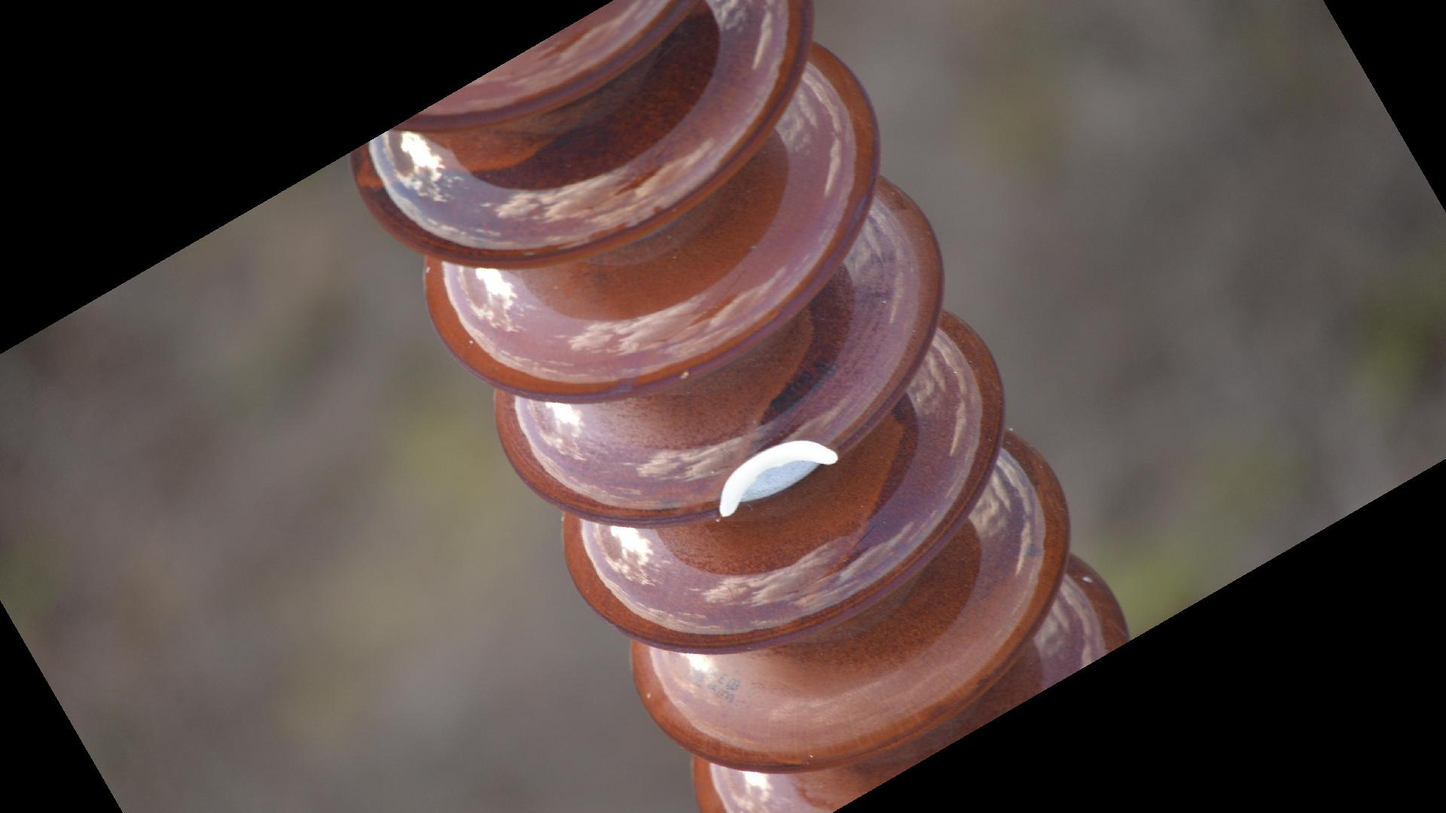insulator: (343, 1, 1141, 813)
insulator_breakage: (708, 436, 847, 524)
